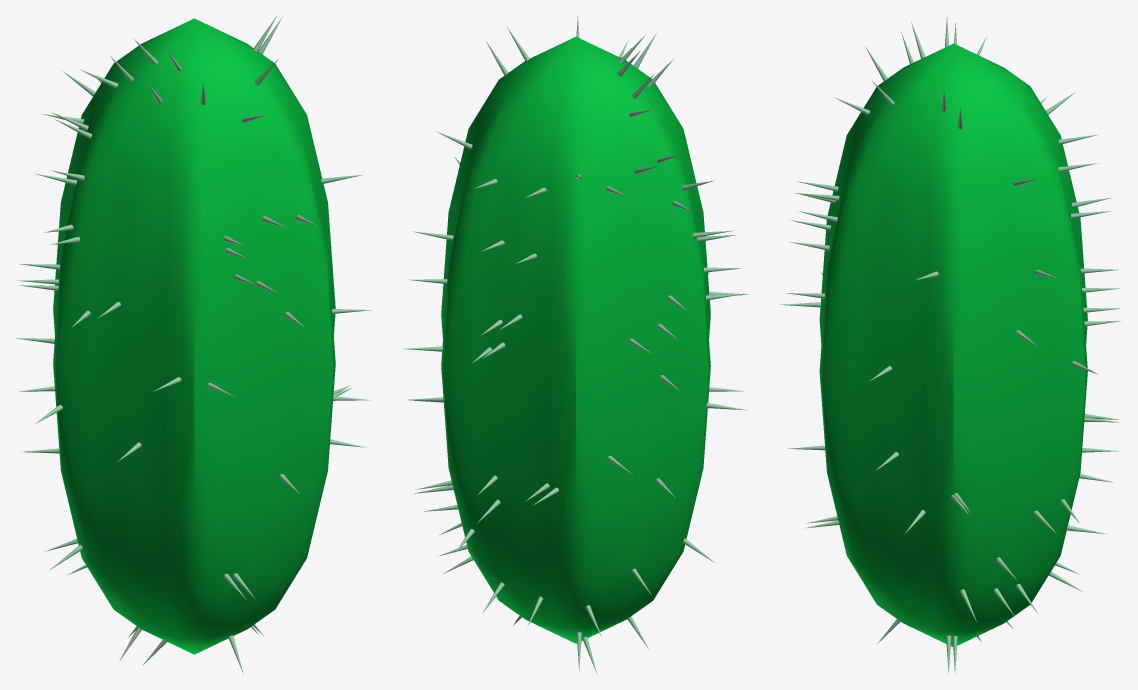
Rendered from cacto2.fbx.
3 renders of one model, left to right at view 1: azimuth 30°, elevation 25°; view 2: azimuth 150°, elevation 25°; view 3: azimuth 270°, elevation 25°, orthographic. The views are drawn at different scales.
Parts seen in each view (by area): view 1: cacto1; view 2: cacto1; view 3: cacto1.
Boxes of the visible parts, x1=… form: cacto1: x1=16, y1=16, x2=371, y2=674; cacto1: x1=403, y1=16, x2=749, y2=674; cacto1: x1=780, y1=15, x2=1121, y2=674.
Bounding box in the file's own units: 144 × 265 × 134.
